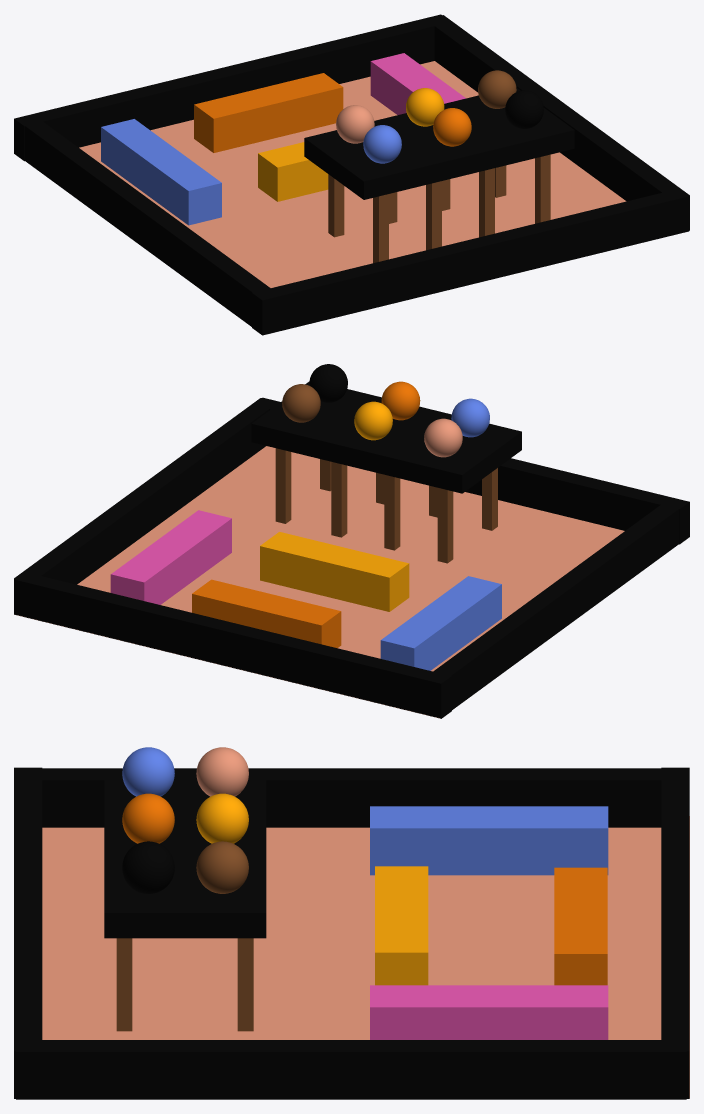
File: level2.gltf
3 views of the same model, one above another, from view 1: azimuth 30°, elevation 25°; view 2: azimuth 150°, elevation 25°; view 3: azimuth 270°, elevation 25° (orthographic). The views are drawn at different scales.
Visible parts, largest first — view 1: Sphere; view 2: Sphere; view 3: Sphere.
Boxes of the visible parts, x1,y1,x2,y2 form: Sphere: (14, 14, 689, 335); Sphere: (14, 364, 689, 718); Sphere: (14, 747, 689, 1099).
Bounding box in the file's own units: 25.54 × 7.61 × 25.67.
